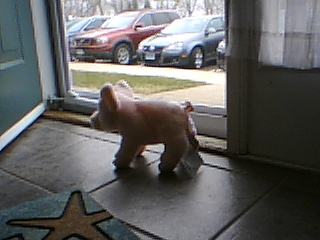piggy: (89, 78, 199, 175)
